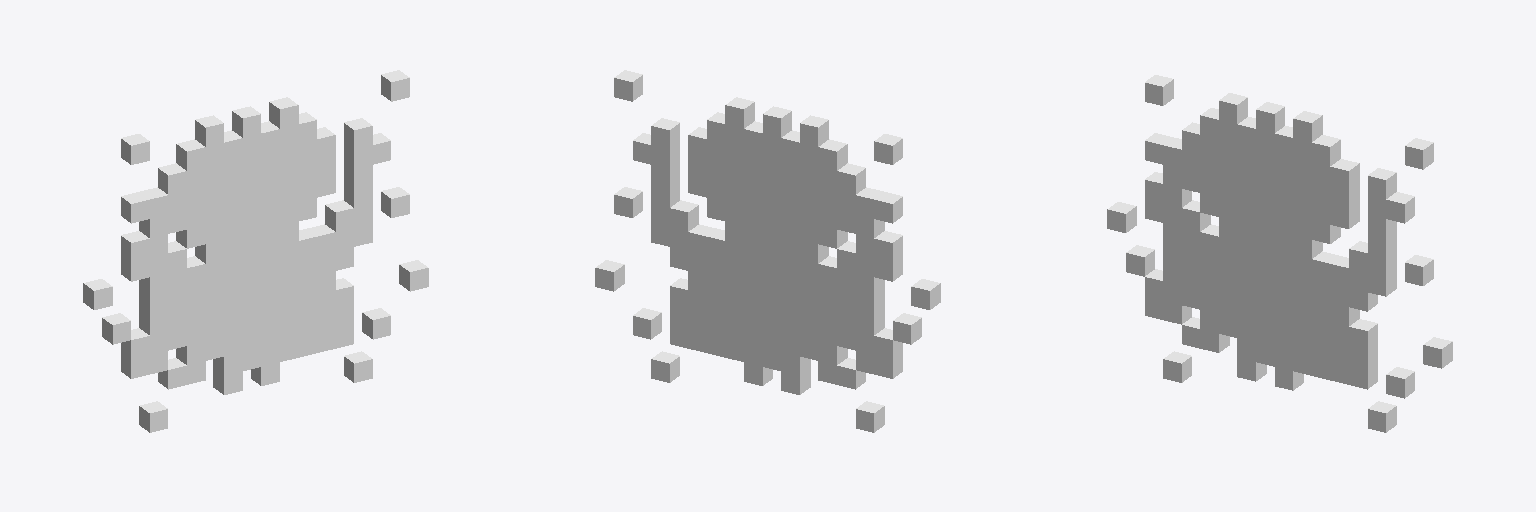
Rendered from Die2.obj.
3 renders of one model, left to right at view 1: azimuth 30°, elevation 25°; view 2: azimuth 150°, elevation 25°; view 3: azimuth 330°, elevation 25°, orthographic.
Parts seen in each view (by area): view 1: object 1; view 2: object 1; view 3: object 1.
Part boxes in pixels (left/top/right/bottom): object 1: left=83, top=70, right=428, bottom=432; object 1: left=595, top=70, right=940, bottom=432; object 1: left=1107, top=75, right=1452, bottom=432.
Bounding box in the file's own units: 1.8 × 1.5 × 0.1.